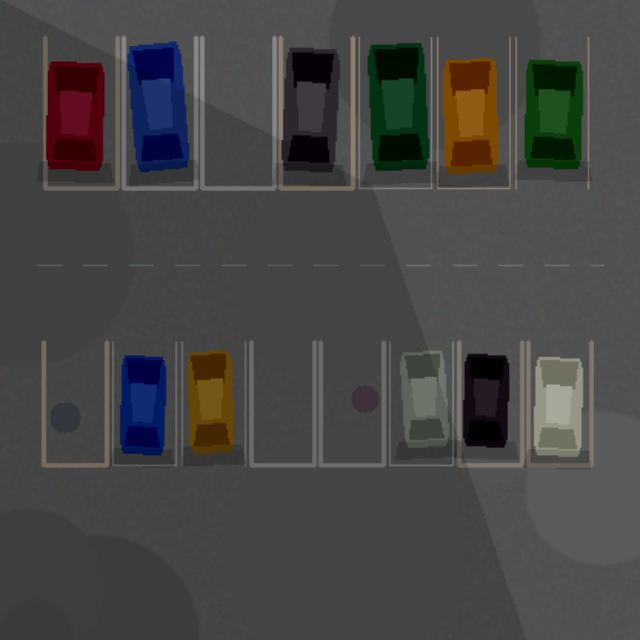space-empty: (202, 37, 274, 188), (43, 342, 106, 465), (251, 342, 314, 465), (320, 342, 383, 465)
space-occupied: (358, 37, 431, 188), (515, 37, 588, 188), (45, 37, 117, 188), (123, 37, 195, 188), (280, 37, 352, 188), (437, 37, 509, 188), (458, 342, 522, 465), (112, 342, 175, 465), (182, 342, 245, 465), (389, 342, 452, 465), (528, 342, 591, 465)
